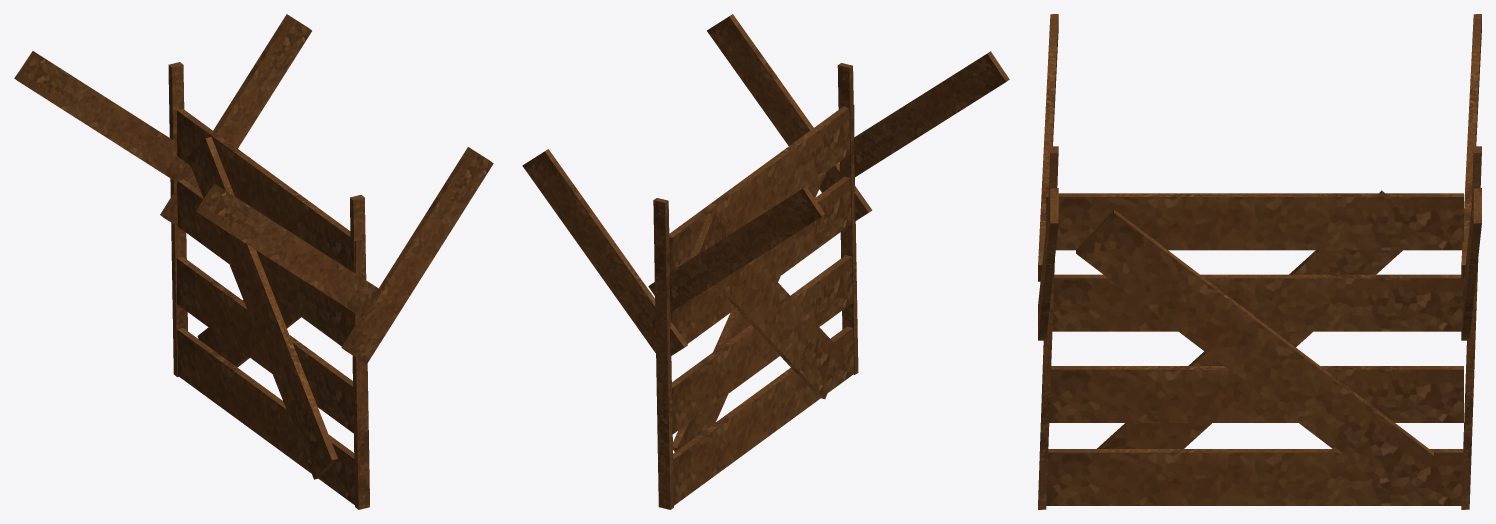
The model's file is SM_BarrierHigh.fbx.
3 renders of one model, left to right at view 1: azimuth 30°, elevation 25°; view 2: azimuth 150°, elevation 25°; view 3: azimuth 270°, elevation 25°, orthographic. The views are drawn at different scales.
Parts seen in each view (by area): view 1: SM_BarrierHigh1; view 2: SM_BarrierHigh1; view 3: SM_BarrierHigh1.
Boxes of the visible parts, <box> form: SM_BarrierHigh1: <box>14,14,493,509</box>; SM_BarrierHigh1: <box>522,14,1009,509</box>; SM_BarrierHigh1: <box>1038,14,1481,509</box>.
Size of the model in its own units: 293 by 335 by 327.
